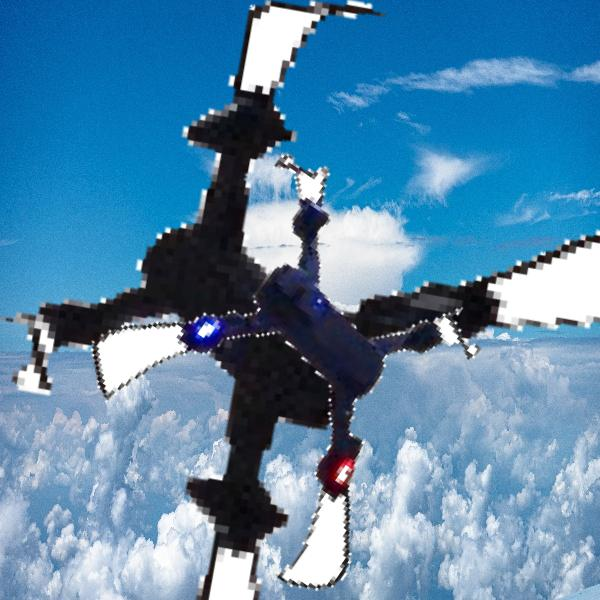drone: (105, 180, 484, 559)
